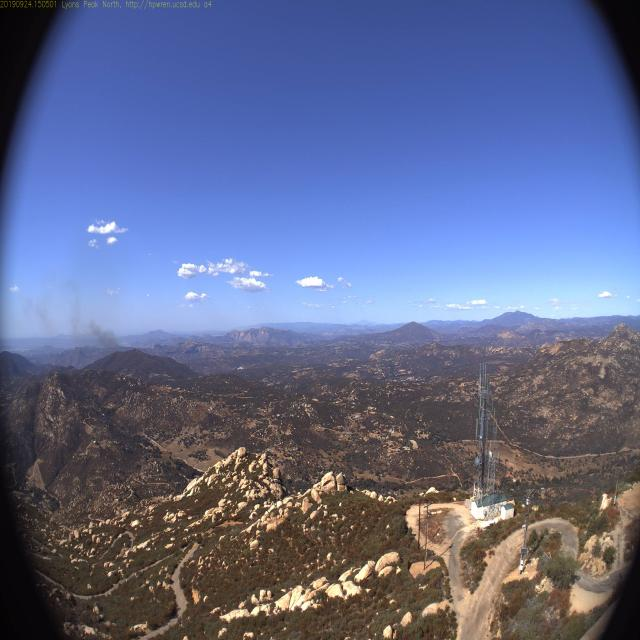smoke: (83, 320, 128, 362)
